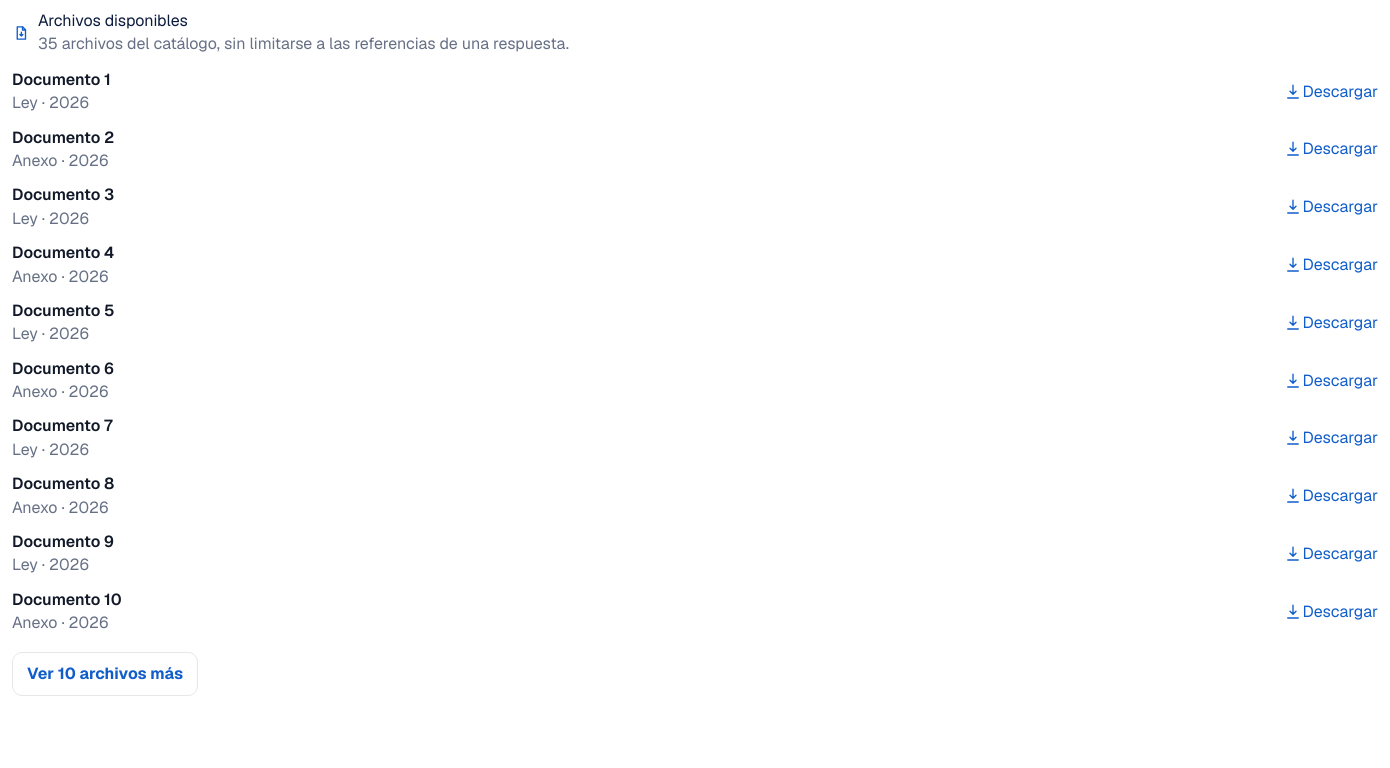
Scenario: ChatCatalogDownloads › muestra corpus grandes de forma progresiva sin perder archivos
Expected: the text "35 archivos del catálogo" is shown, [38, 33, 569, 56]
Click the button "Ver 10 archivos más" at coordinates (105, 674), box [12, 652, 198, 696]
(page scrolled)
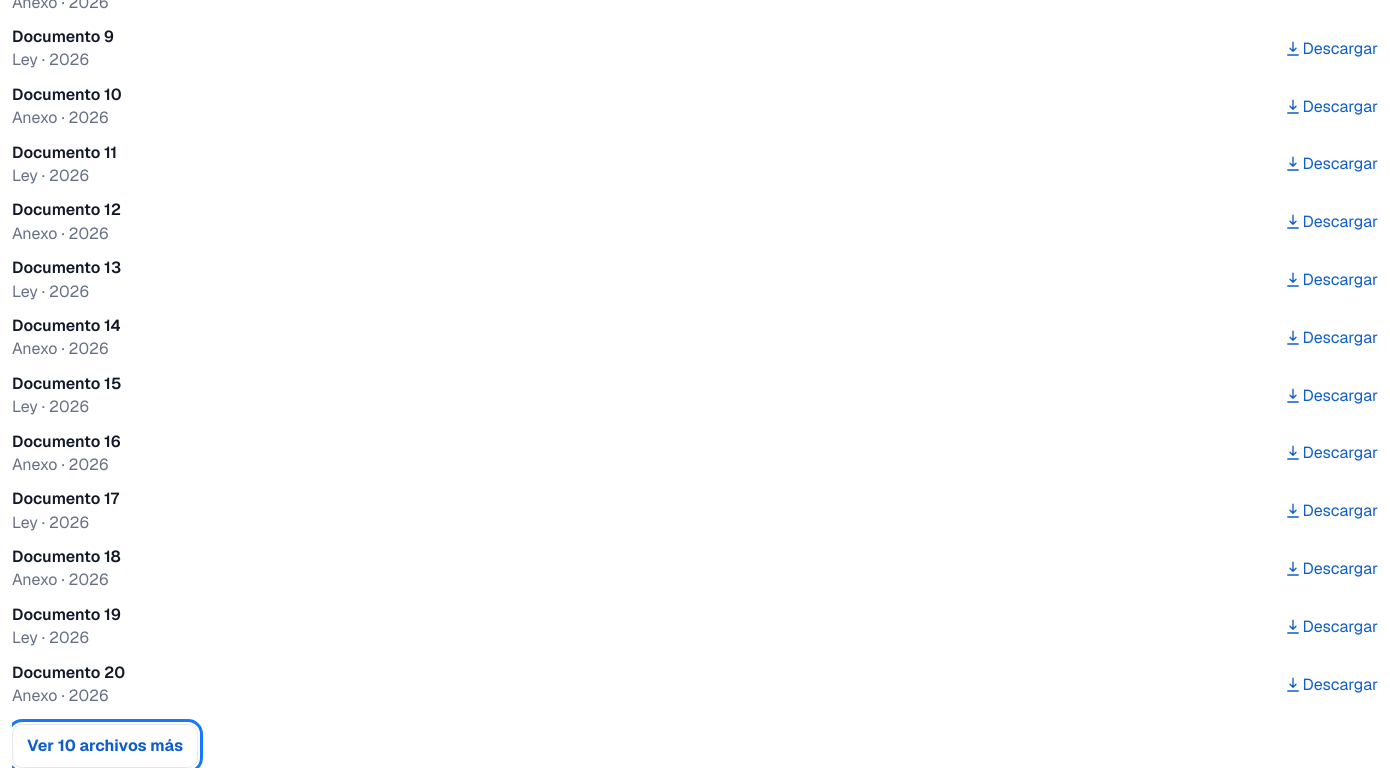
Click the button "Ver 10 archivos más" at coordinates (105, 746), box [12, 724, 198, 767]
(page scrolled)
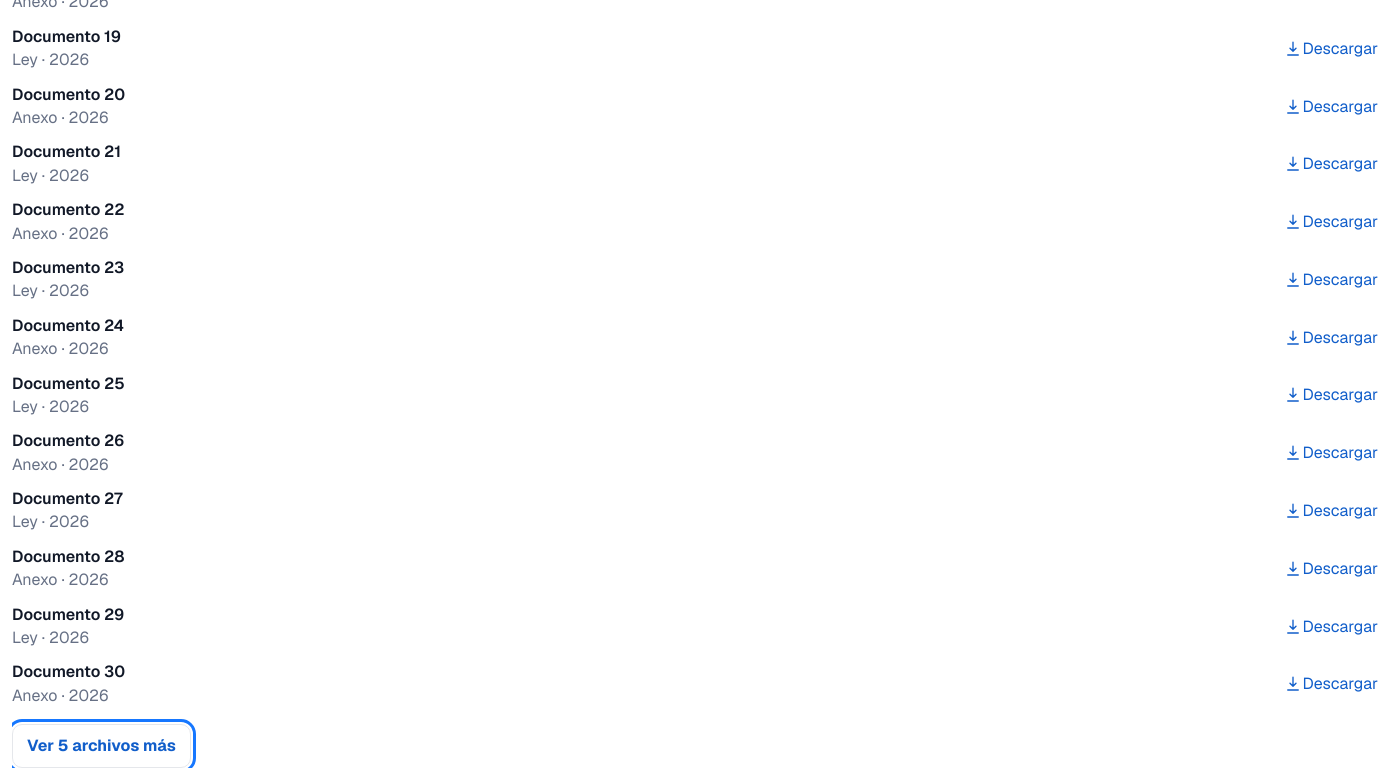
Click the button "Ver 5 archivos más" at coordinates (101, 746), box [12, 724, 191, 767]
(page scrolled)
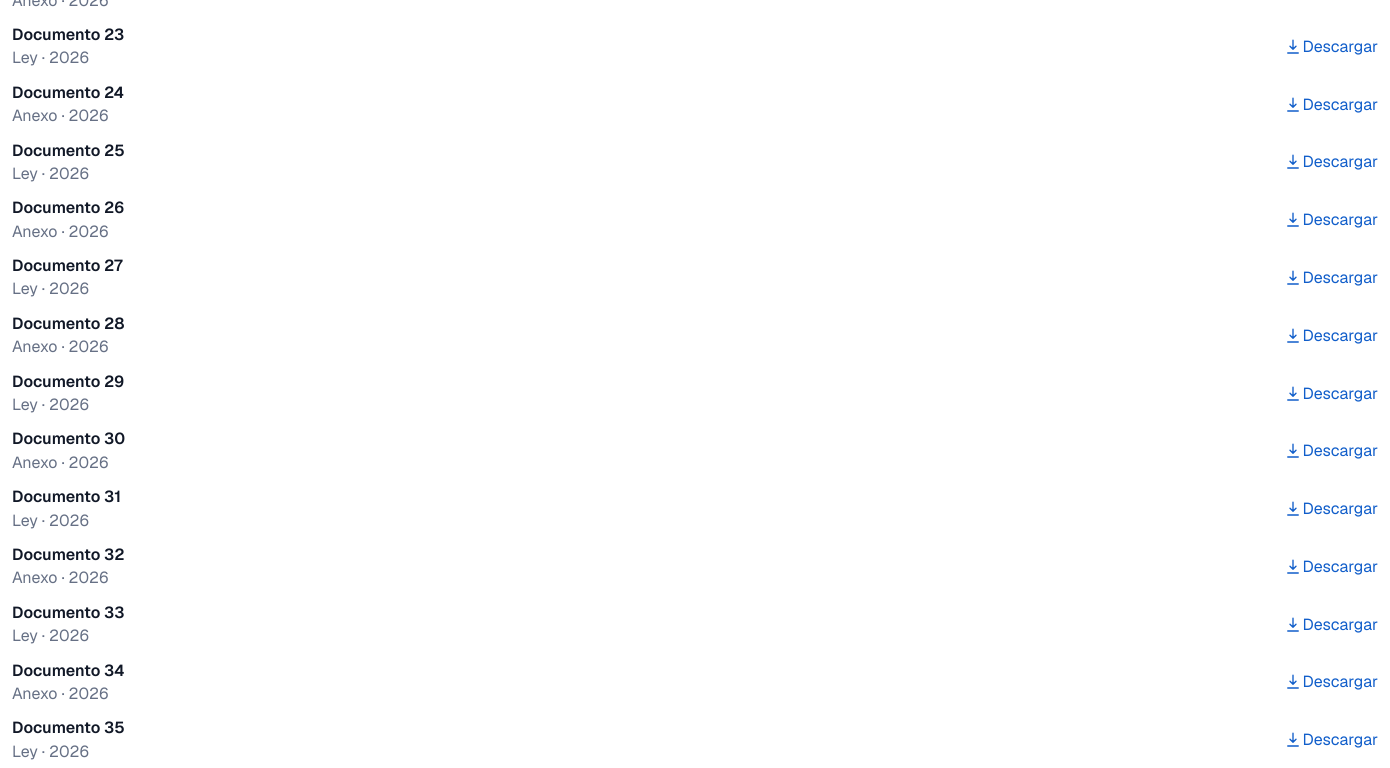
Expected: the button "archivos más" is gone
